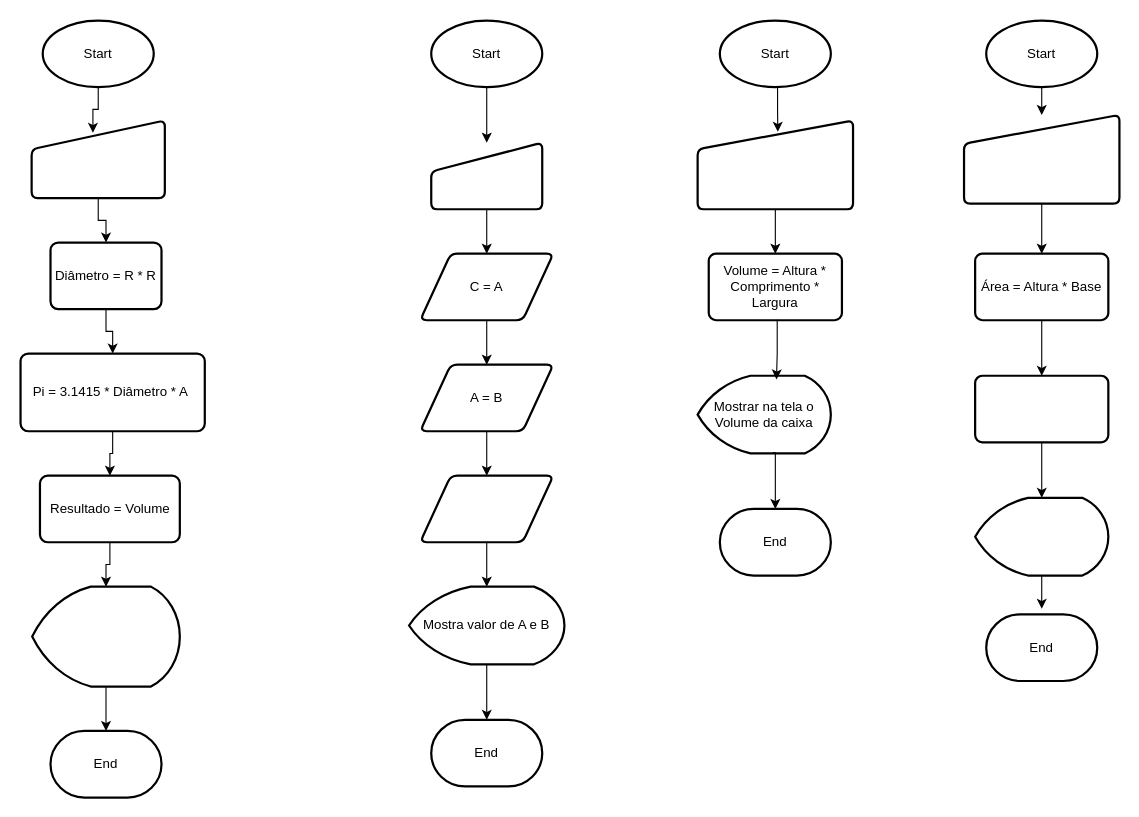
The diagram is 1139 pixels wide and 817 high, and some of its shapes have lost their labels. Here are the shapes that lost their labels. From the top down, the centre of each, then its label:
At [97,159]: "R = Raio A = Altura".
At [486,175]: "A e B".
At [775,164]: "Altura Comprimento Largura".
At [1041,158]: "Altura e Base".
At [1041,408]: "Perímetro = Altura *2 + Base * 2".
At [486,508]: "B = C".
At [1041,536]: "Mostrar na tela Área e Perímetro".
At [105,636]: "Mostra Volume na Tela".
